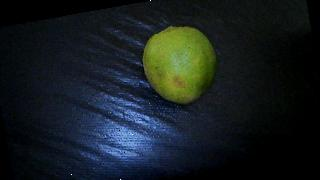DESECHO: (137, 20, 223, 111)
